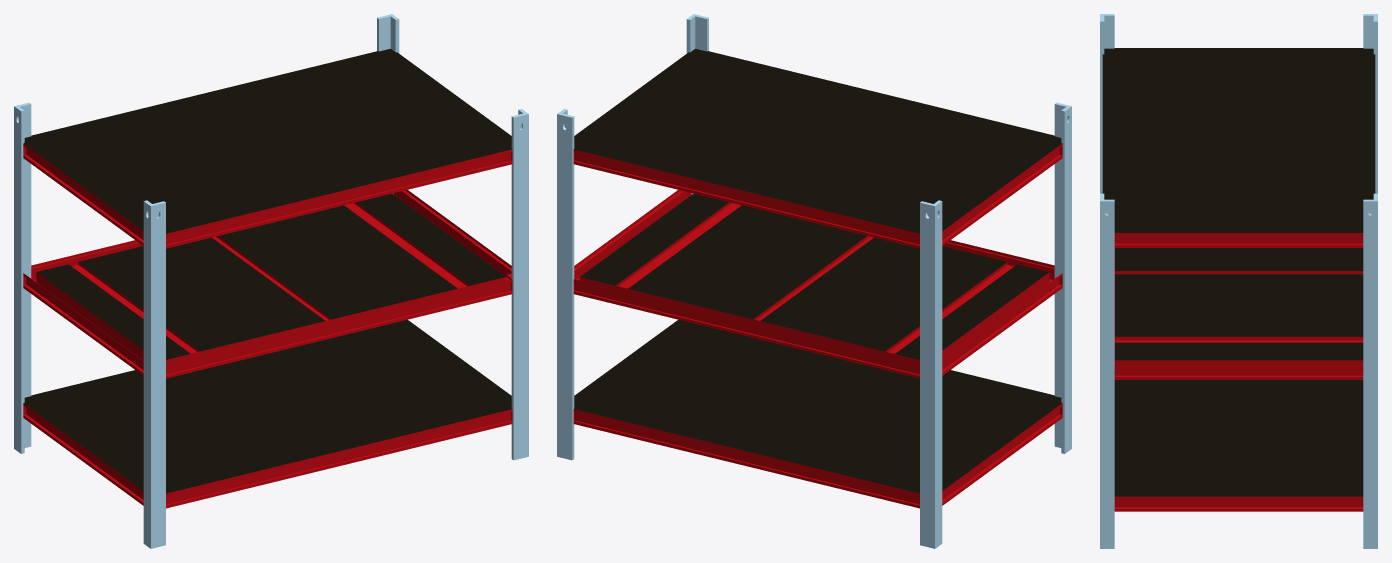
The model's file is Rackshelves.obj.
3 renders of one model, left to right at view 1: azimuth 30°, elevation 25°; view 2: azimuth 150°, elevation 25°; view 3: azimuth 270°, elevation 25°, orthographic.
Parts seen in each view (by area): view 1: Cube.001, Metal_Pole; view 2: Cube.001, Metal_Pole; view 3: Cube.001, Metal_Pole.
Part boxes in pixels (x1,y1,x2,y2): Cube.001: (23, 48, 512, 508); Metal_Pole: (14, 14, 528, 548); Cube.001: (573, 48, 1062, 508); Metal_Pole: (557, 14, 1071, 548); Cube.001: (1102, 48, 1375, 511); Metal_Pole: (1100, 14, 1377, 548).
Size of the model in its own units: 3.25 by 2.81 by 2.04.
